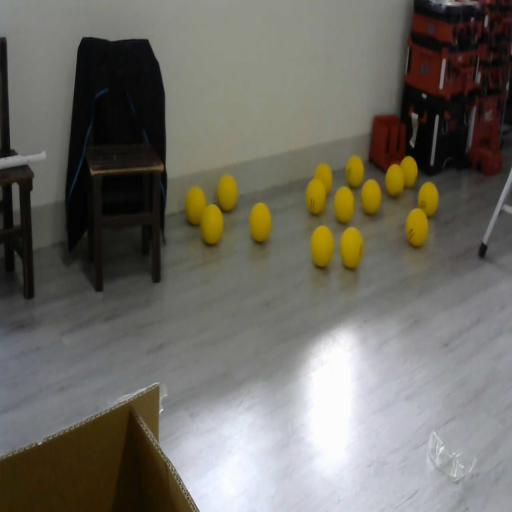FUEL: (248, 201, 273, 243), (200, 202, 224, 245), (340, 226, 364, 269), (310, 226, 334, 268), (404, 207, 429, 247), (184, 185, 207, 225), (333, 184, 355, 223), (216, 173, 238, 212), (361, 178, 382, 215), (418, 181, 438, 218), (345, 155, 364, 188), (400, 155, 418, 188), (314, 163, 332, 195)
